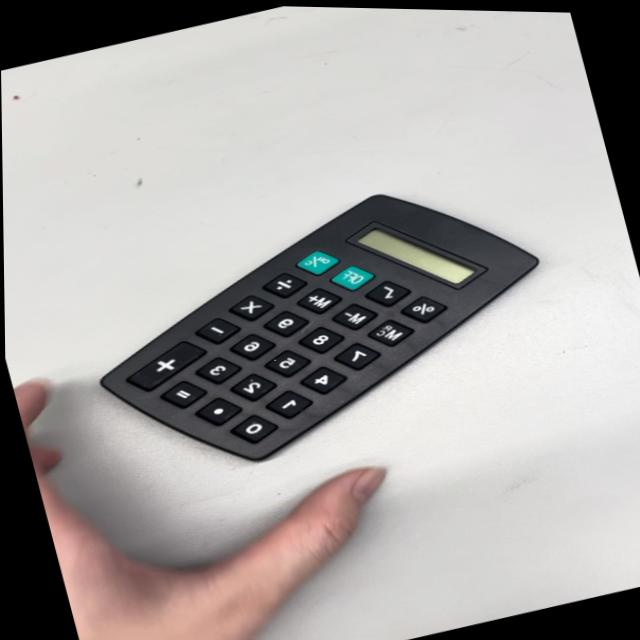calculator: (61, 147, 571, 501)
